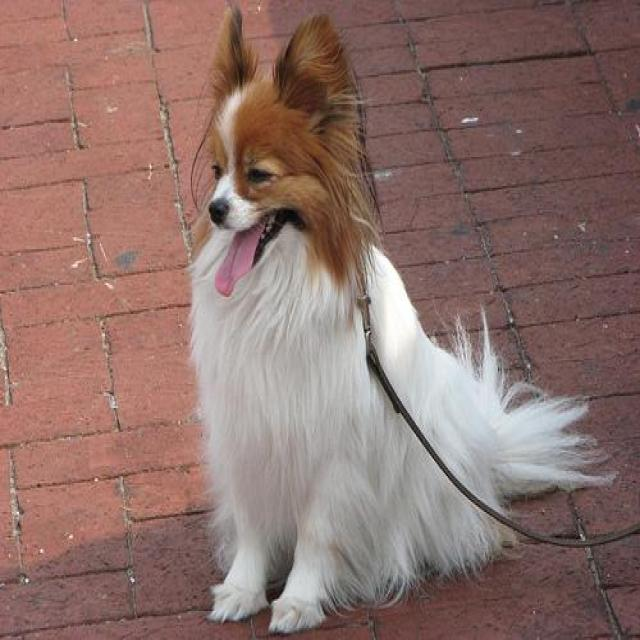papillon: (192, 2, 579, 635)
